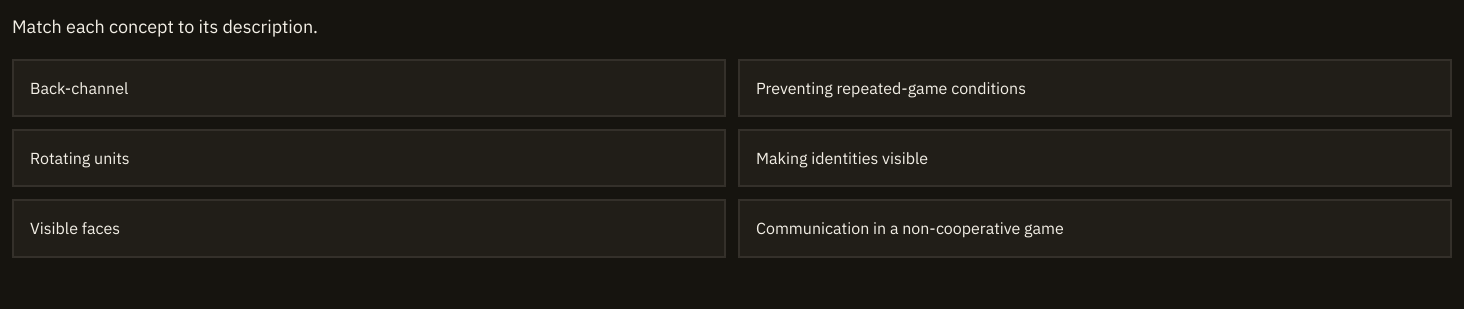
Test: Matching › rejects a wrong pairing without solving
Click the button "Back-channel" at (79, 88), box [12,59,726,117]
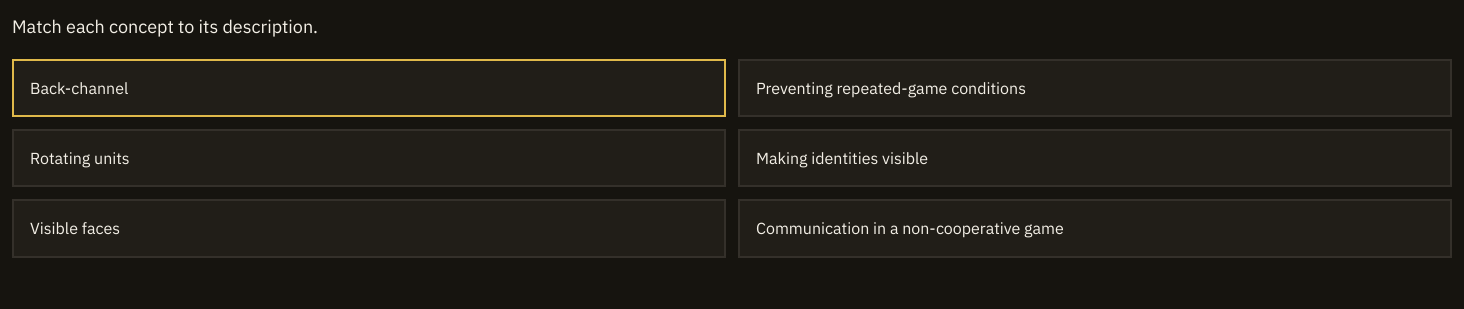
Click the button "Preventing repeated-game conditions" at (891, 88), box [738,59,1452,117]
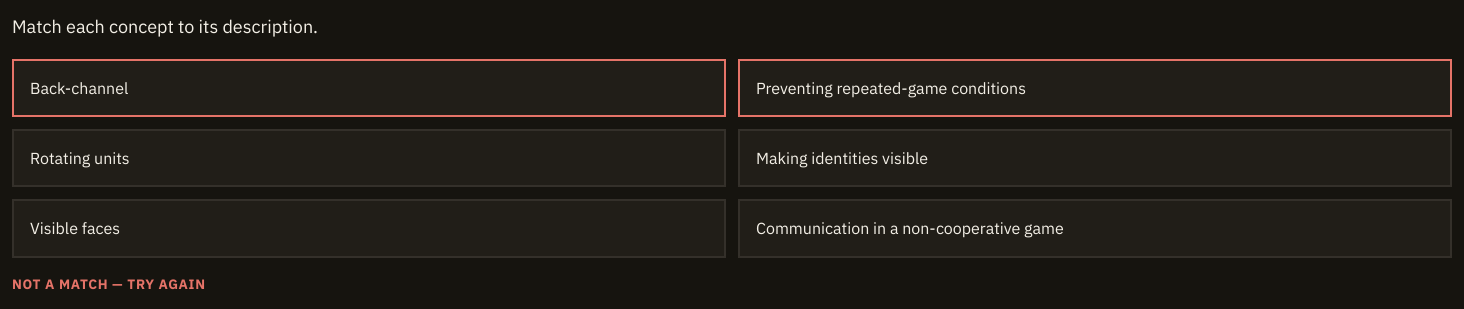
Result: the text "Not a match — try again" is shown at [12,275,206,293]
